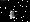person: (12, 8, 19, 19)
